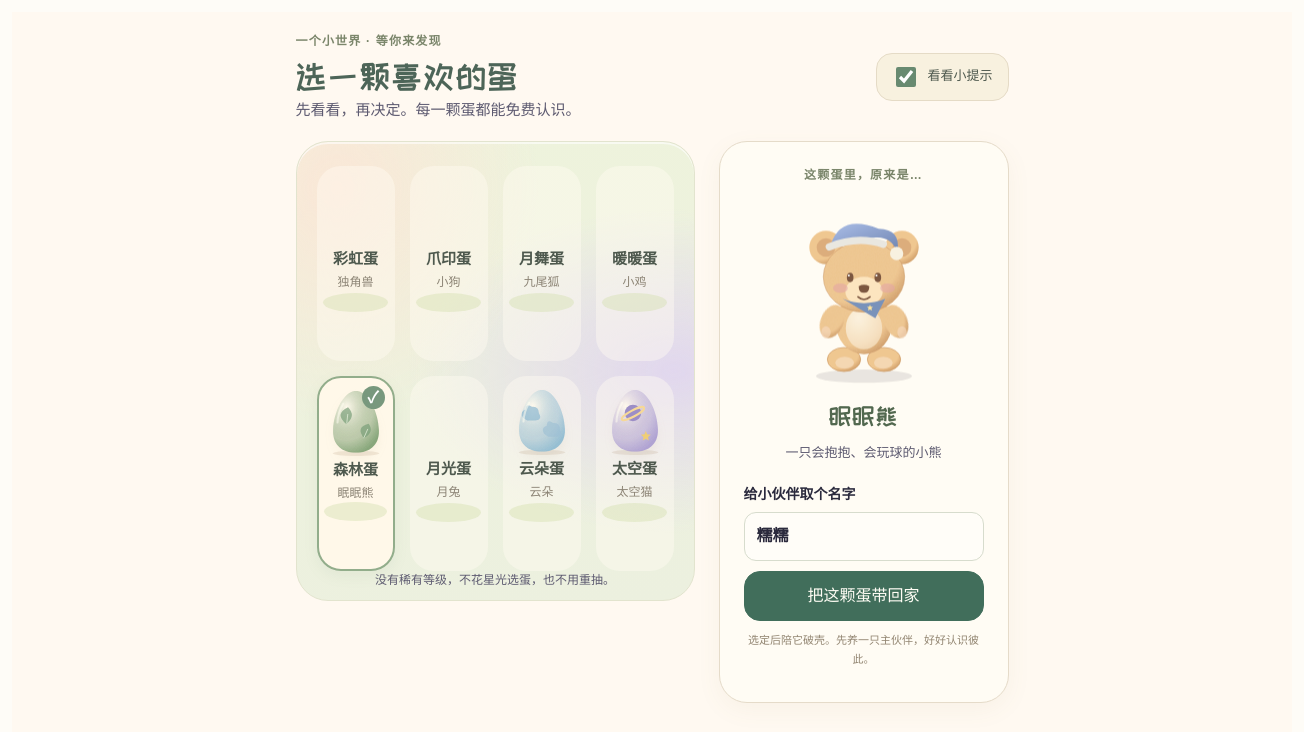
Test: save and stop behavior › home page adopts a selected egg and stores its name through the real reducer
Click the button with aria-label "月光蛋，月兔". click: (448, 474)
box: [410,376,488,571]
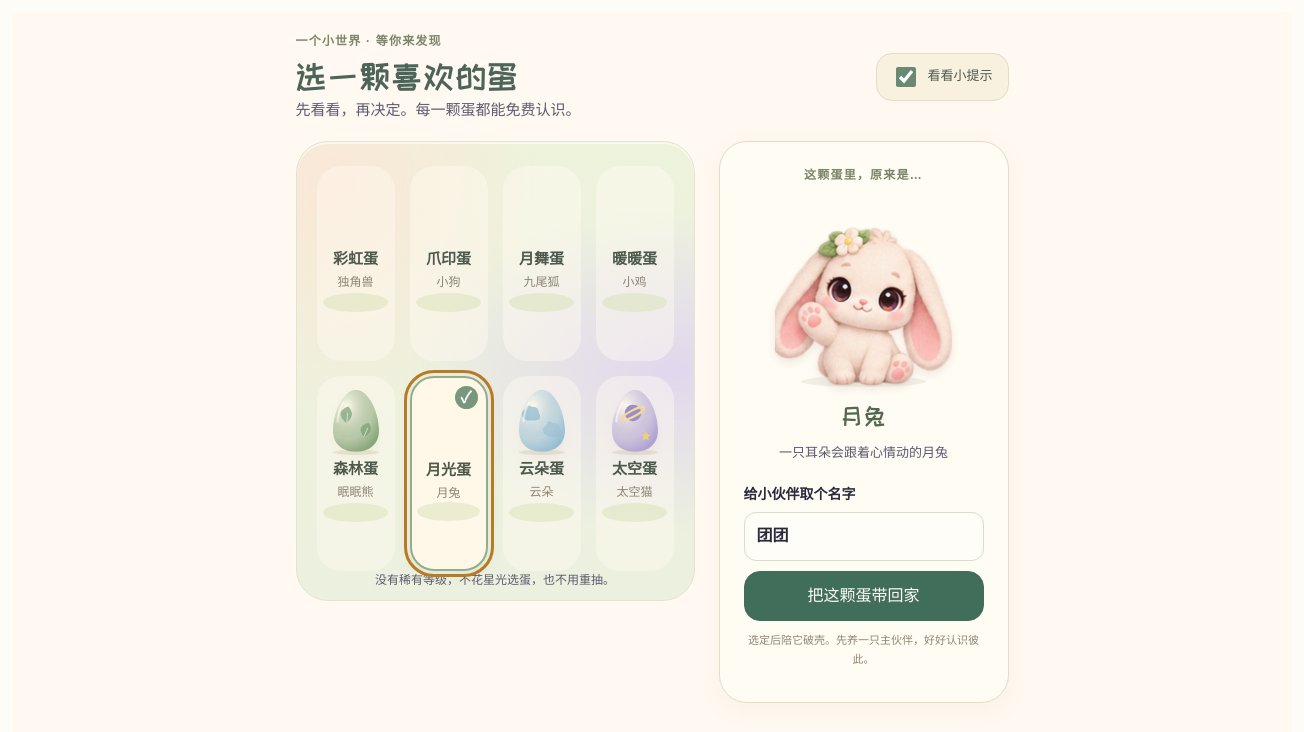
Replace the text in the field labelled "给小伙伴取个名字" with "月月". click: (864, 537)
box: [744,512,984,561]
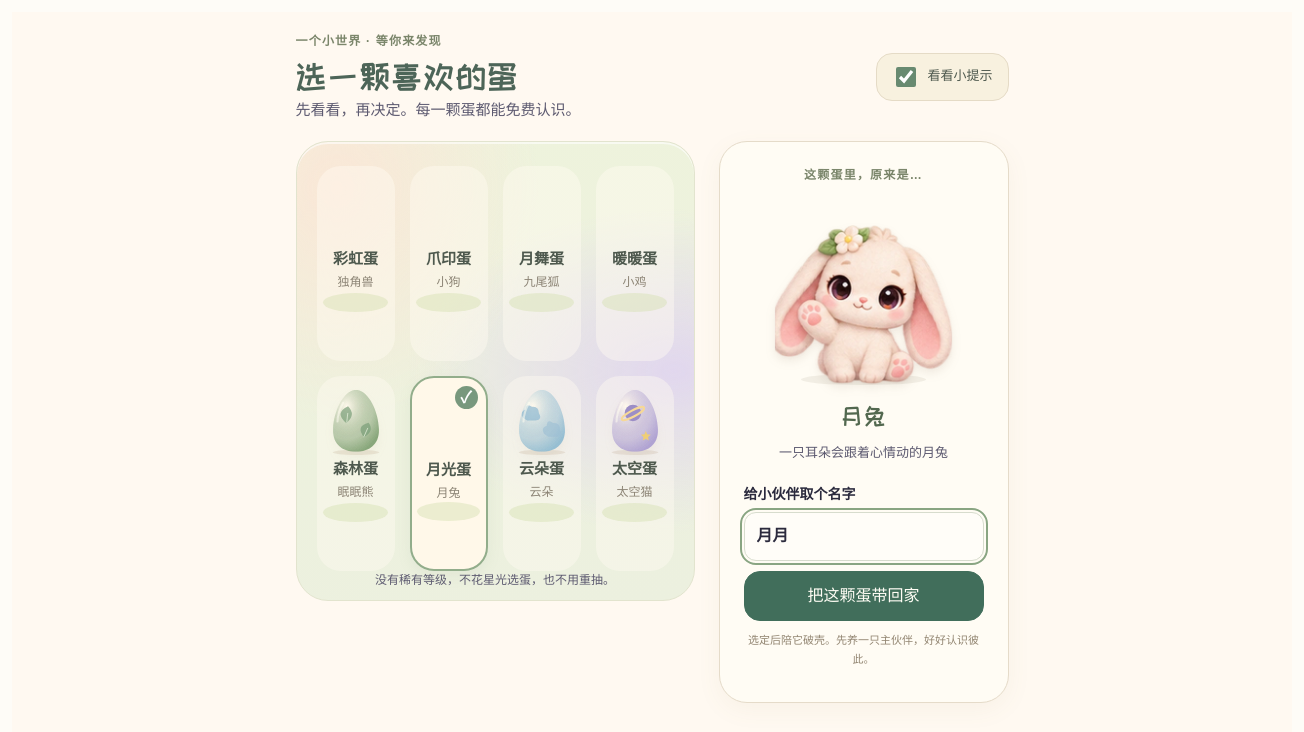
Click the button "把这颗蛋带回家". click: (864, 596)
box: [744,571,984,621]
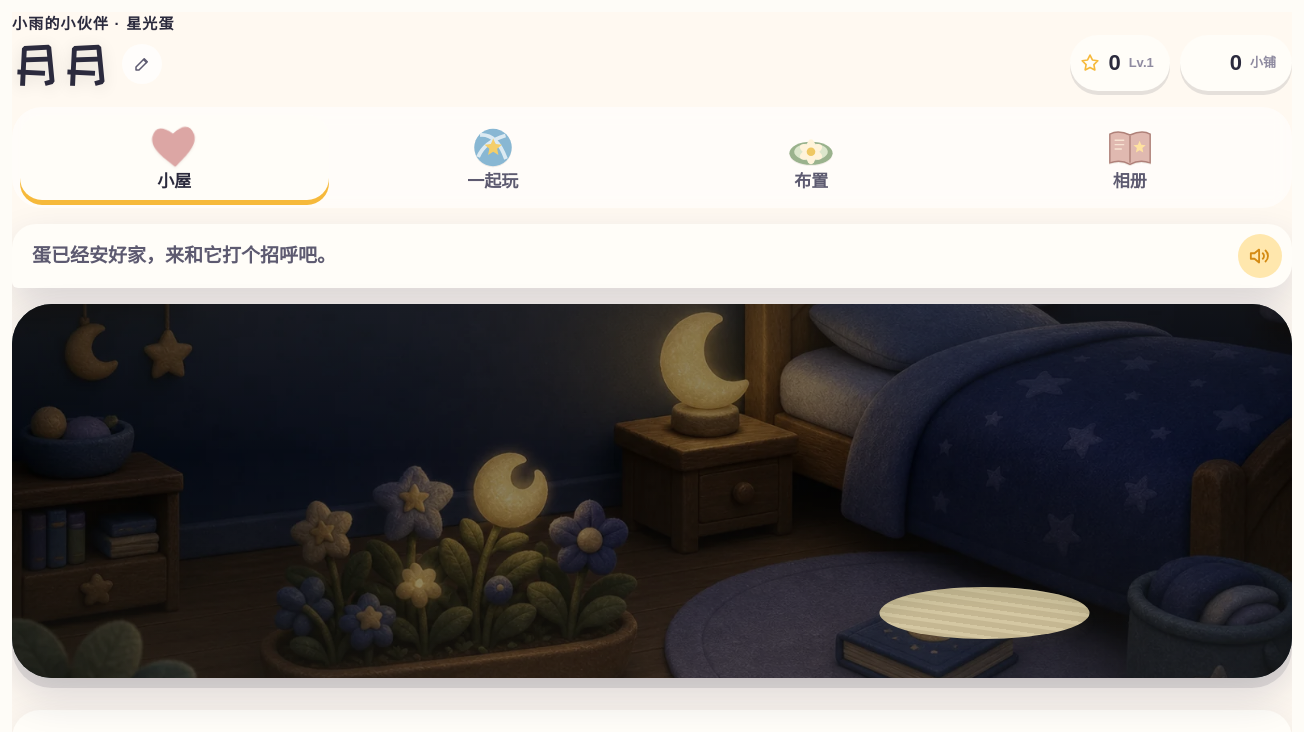
Check: the heading "月月" is shown, box [12,37,112,91]
